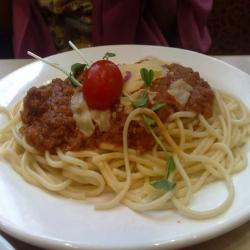bolonese_pasta: (11, 56, 235, 207)
